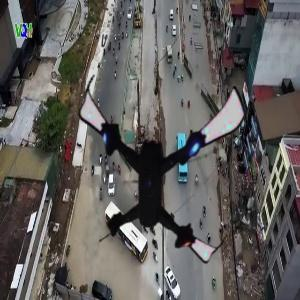drone: (59, 69, 246, 256)
